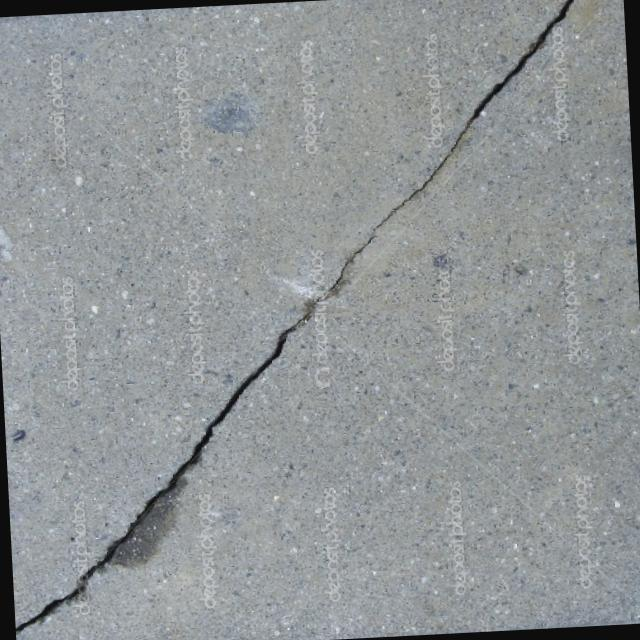crack: (0, 292, 348, 633), (313, 0, 596, 291)
